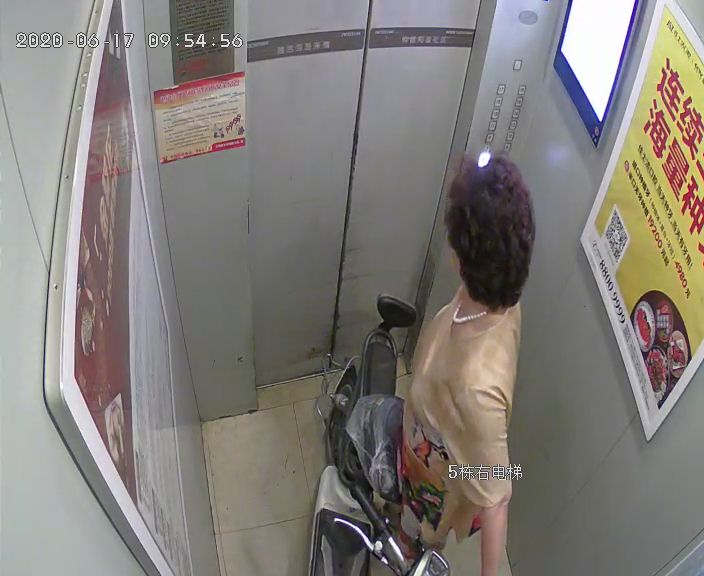Electric-bicycle: (312, 290, 449, 574)
